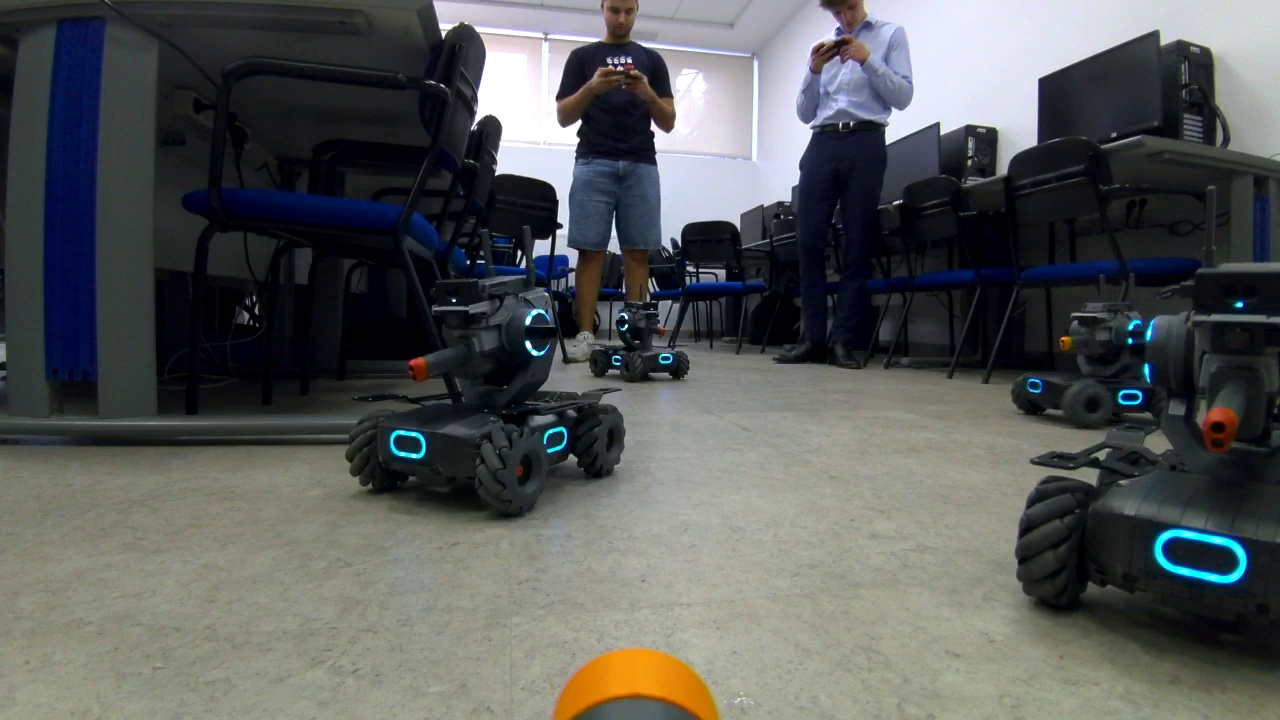robot: (997, 286, 1280, 670), (336, 223, 629, 523), (1009, 280, 1199, 436), (579, 283, 700, 377)
